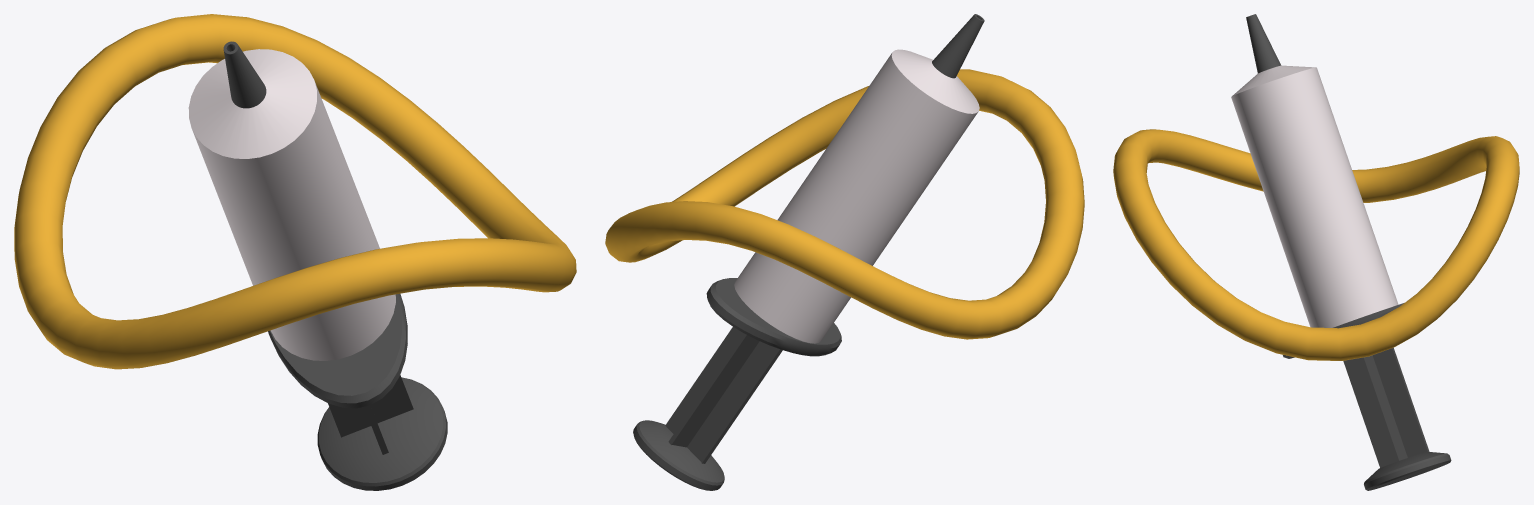
File: jeringa_generica.fbx
3 renders of one model, left to right at view 1: azimuth 30°, elevation 25°; view 2: azimuth 150°, elevation 25°; view 3: azimuth 270°, elevation 25°, orthographic. The views are drawn at different scales.
Parts seen in each view (by area): view 1: Cilindro.046, Cilindro.044; view 2: Cilindro.044, Cilindro.046; view 3: Cilindro.044, Cilindro.046.
Boxes of the visible parts, x1,y1,x2,y2 form: Cilindro.046: (14,14,576,369); Cilindro.044: (188,41,447,490); Cilindro.044: (633,14,984,490); Cilindro.046: (605,69,1084,339); Cilindro.044: (1231,14,1451,490); Cilindro.046: (1113,129,1519,360).
Bounding box in the file's own units: 29.64 × 33.16 × 30.92.
